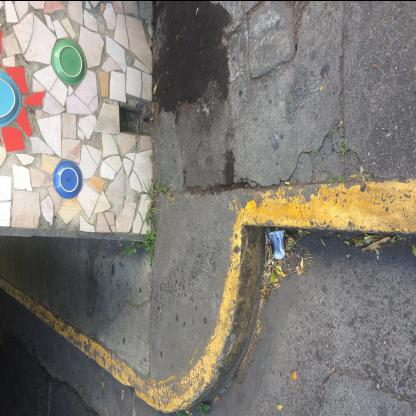karton: (268, 228, 286, 258)
